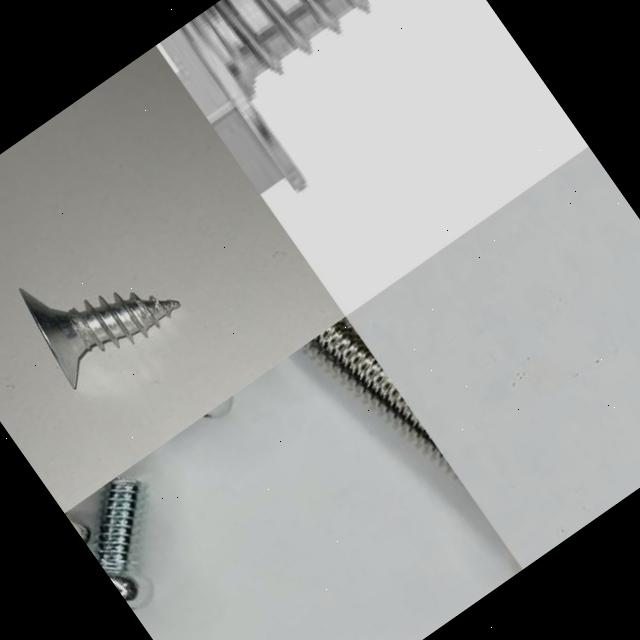Screw: (161, 0, 372, 194), (305, 316, 446, 460), (19, 286, 179, 387), (97, 477, 140, 601)
